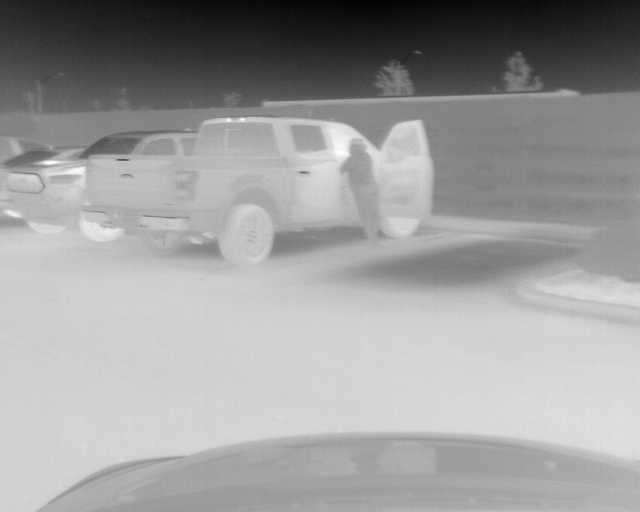car: (82, 114, 434, 264), (7, 129, 200, 242), (1, 147, 93, 233), (1, 137, 54, 163)
people: (341, 138, 383, 246)
